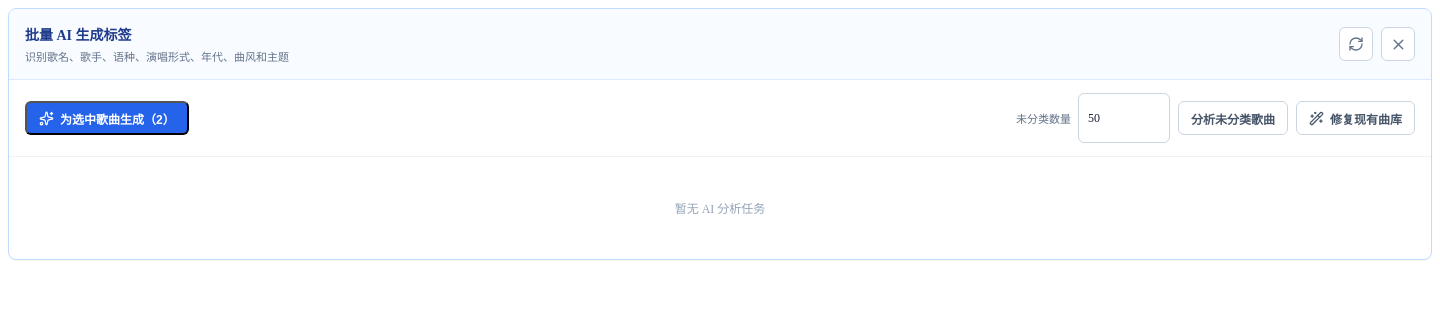
Test: AiTaskPanel › creates selected tasks with per-song failure reporting and refreshes the task list
Click the button "为选中歌曲生成（2）" at (107, 118), box 25,101 -> 189,135
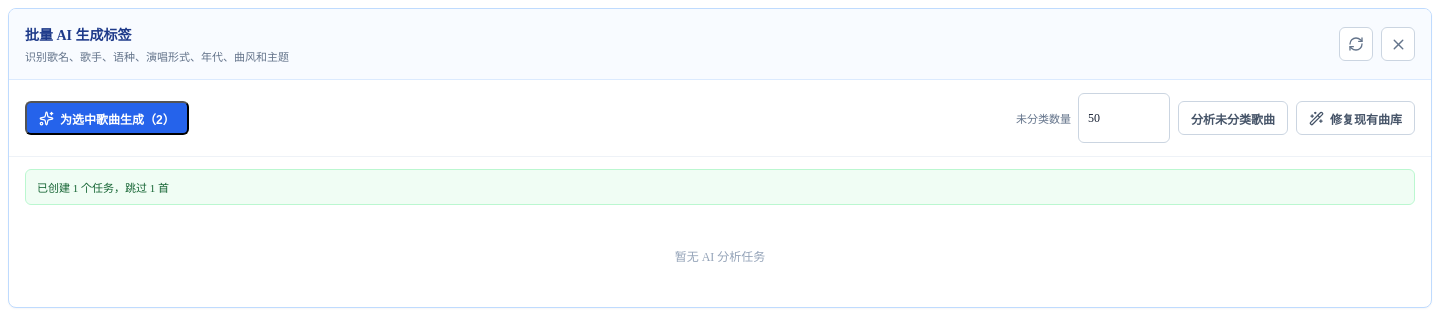
expect the text "已创建 1 个任务，跳过 1 首" is shown: met, box 25,169 -> 1415,205
